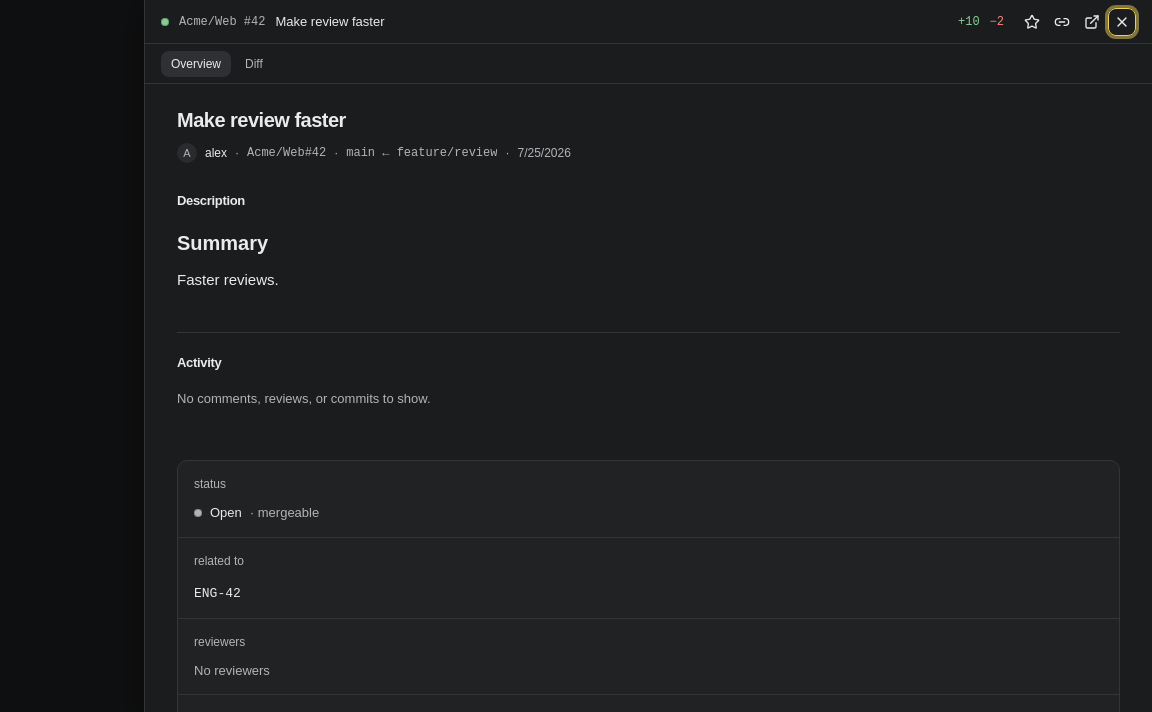
Test: PrDrawer › switches between Overview and Diff
Expected: the heading "Summary" is shown, [177,232,268,254]
Click the tab "Diff".
click(254, 64)  # box [235,50,273,76]
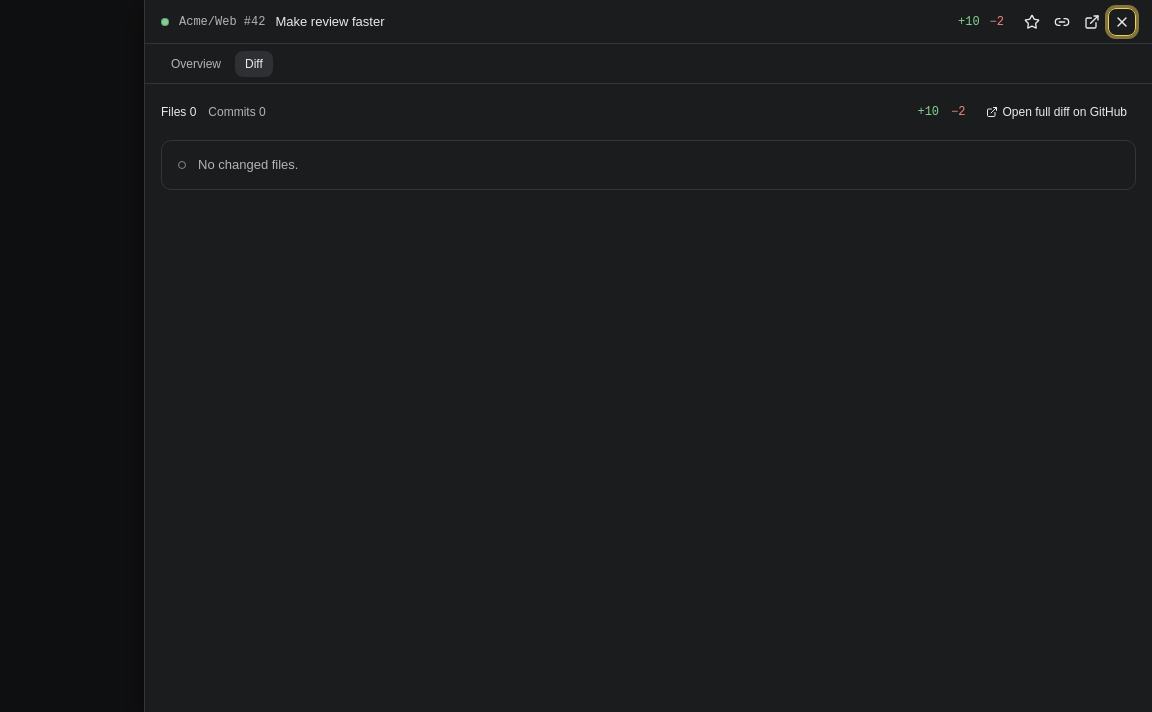
Now the text "No changed files." is shown, box [161,140,1136,190]
